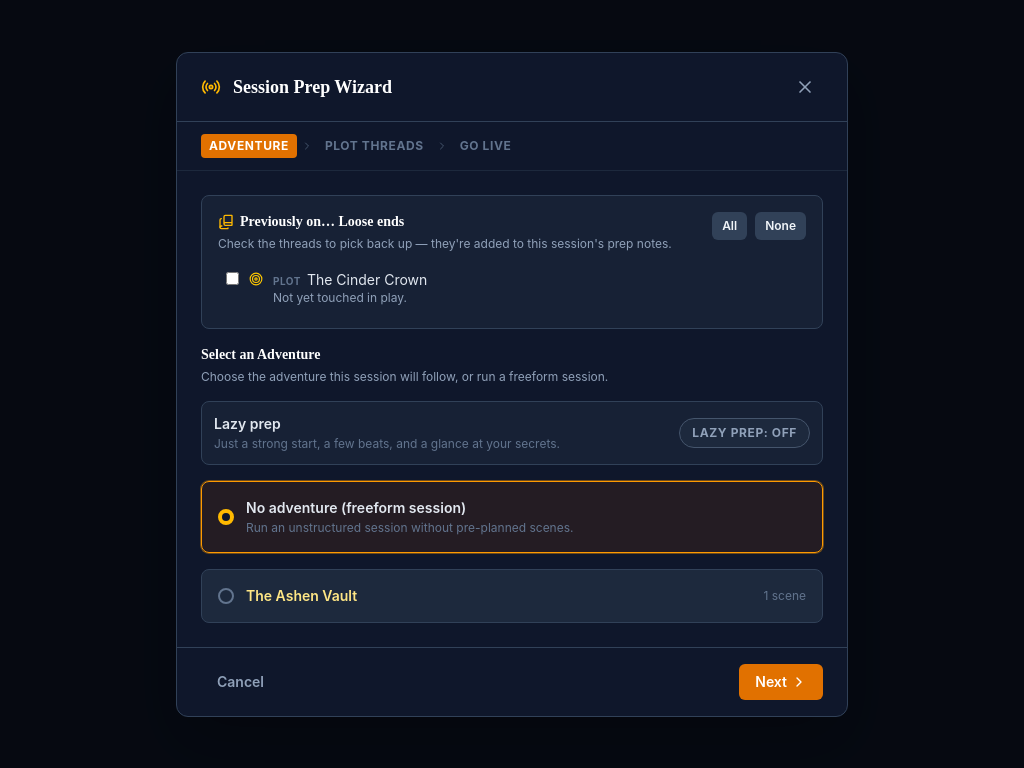
Test: SessionPrepWizard — the Beats step › adds on Enter as well
The width and height of the screenshot is (1024, 768).
Click the button "Lazy prep: off".
click(745, 432)  # box [679,418,810,448]
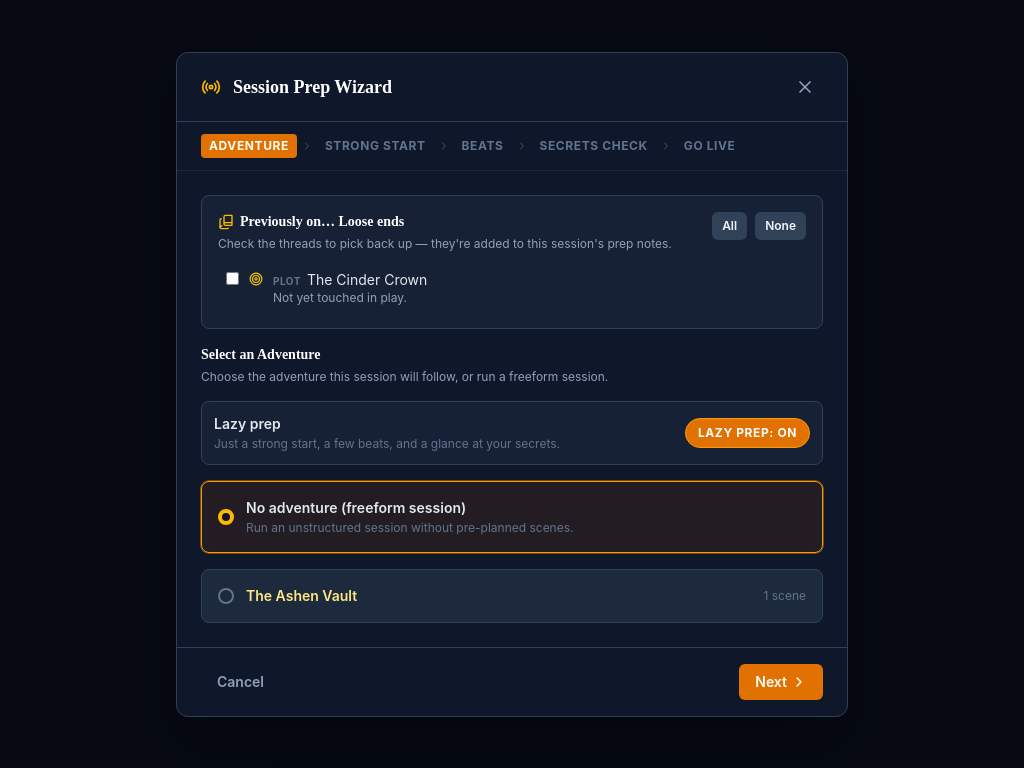
Click the button "Beats".
click(483, 146)  # box [454,134,512,158]
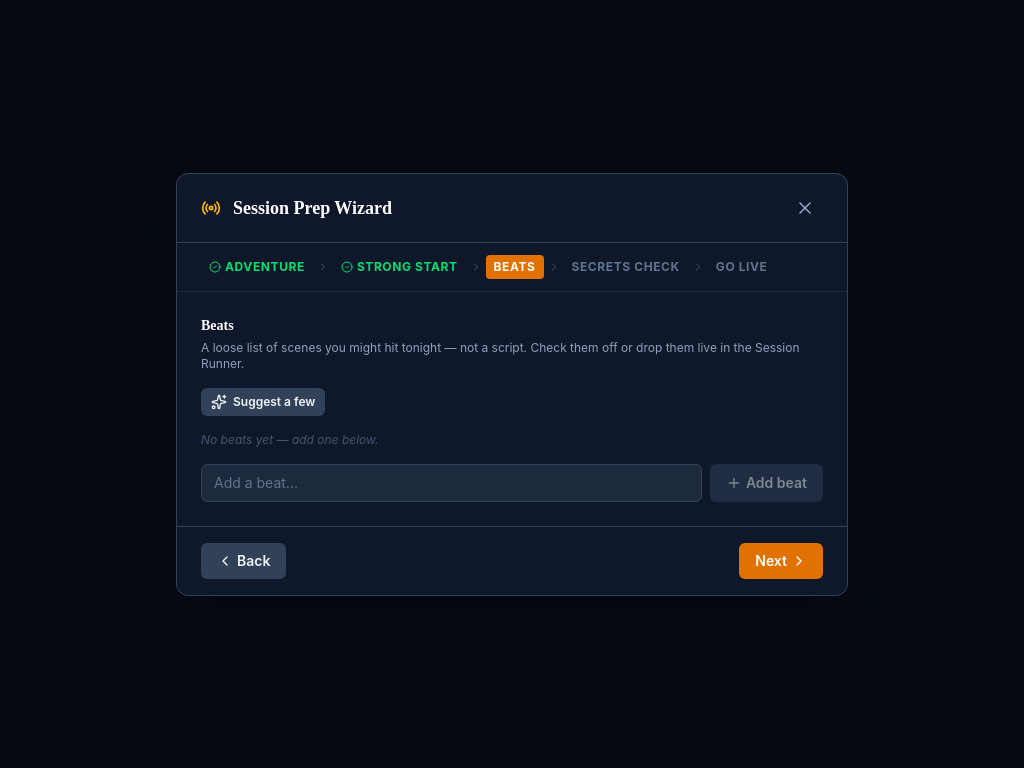
Type "The steward asks for a private word" into the field labelled "Add a beat...".
click(451, 482); type("The steward asks for a private word")  # box [201,464,702,502]
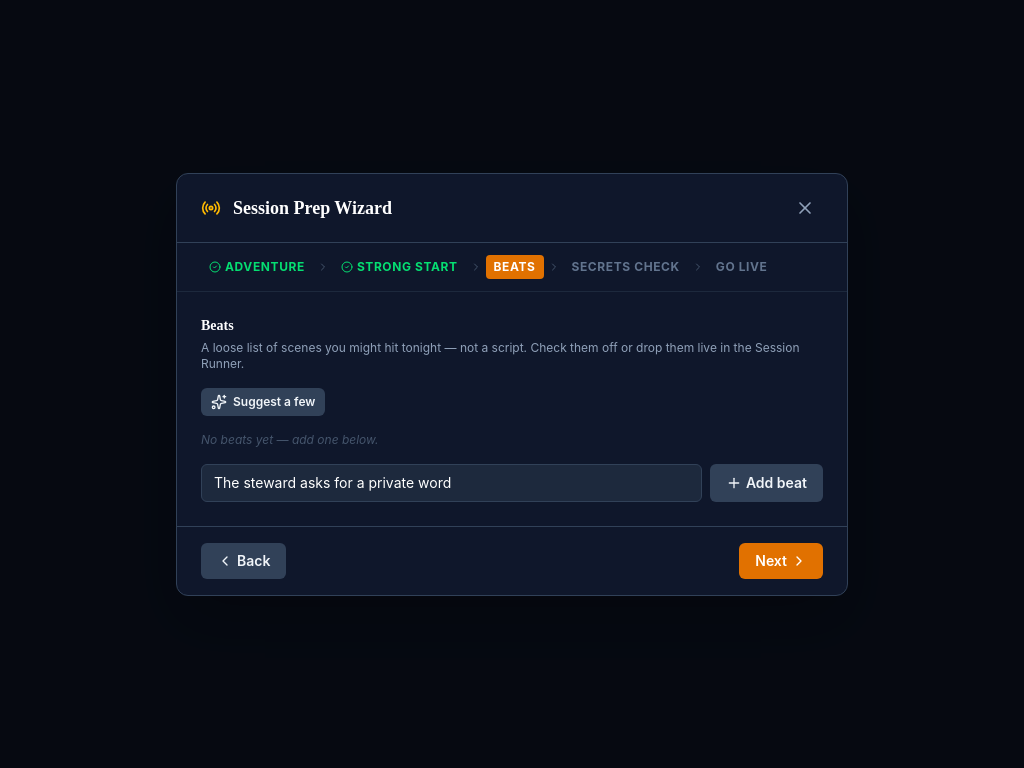
Press Enter in the field named "Add a beat", box [201,464,702,502]
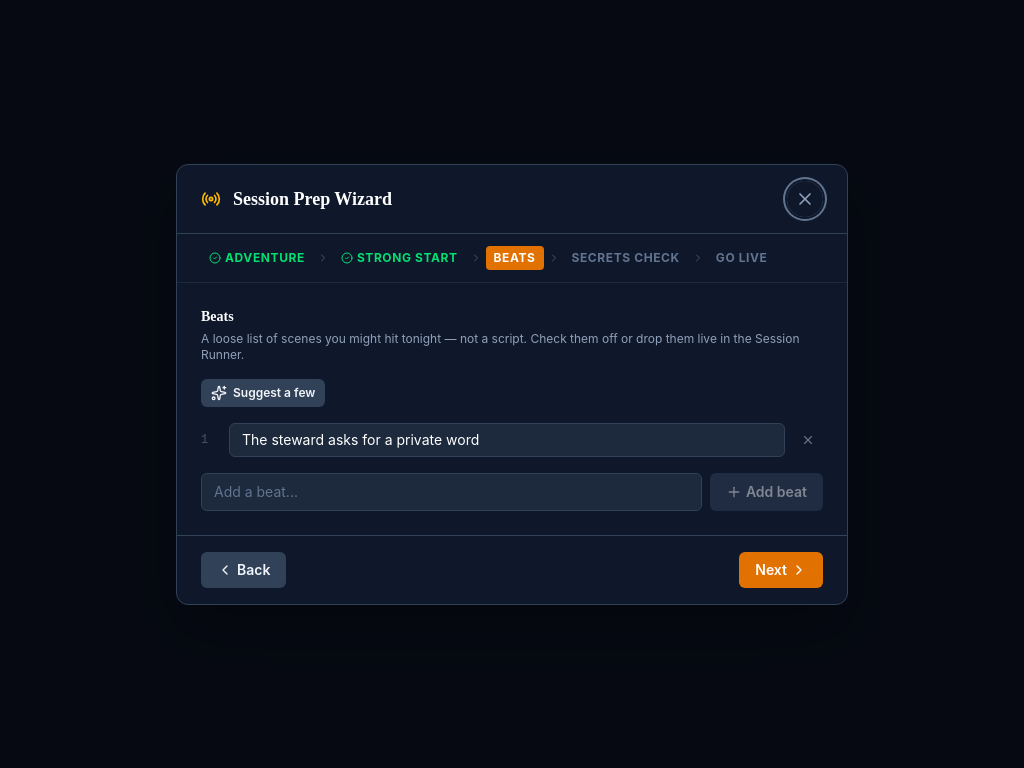
Result: the number of fields named "Beat 1" is 1 at [229,422,785,456]
